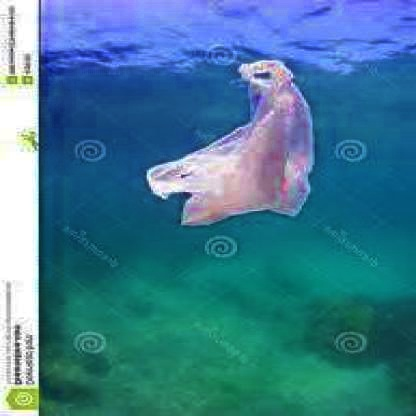pbag: (144, 57, 315, 227)
